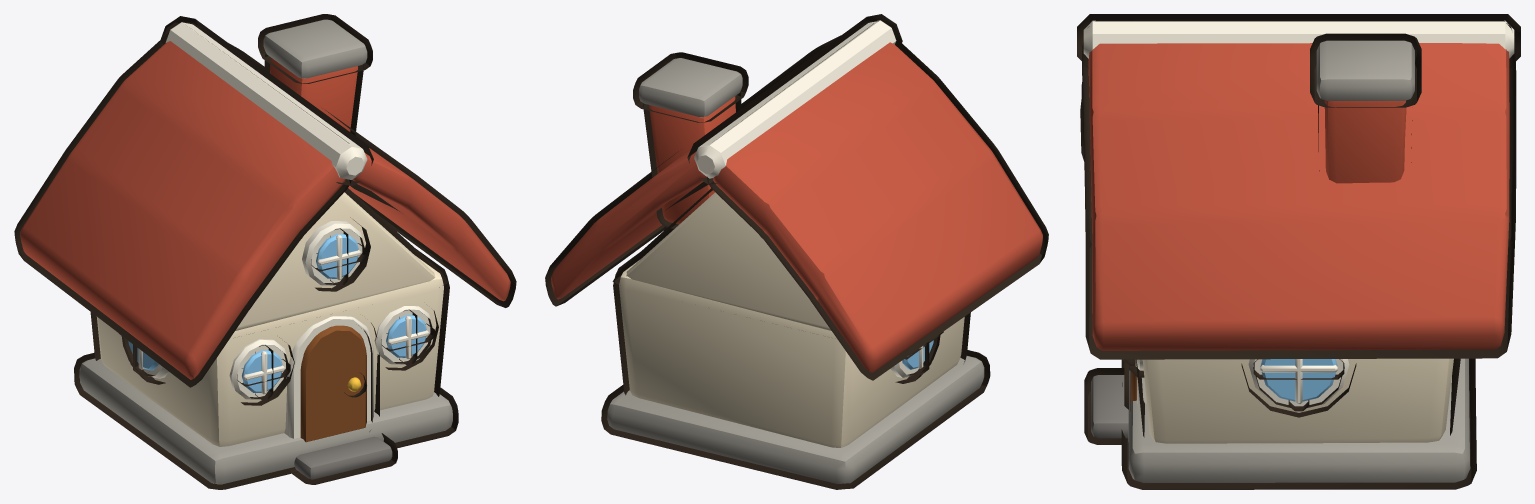
Rendered from house-1.glb.
3 views of the same model, side by side, from view 1: azimuth 30°, elevation 25°; view 2: azimuth 150°, elevation 25°; view 3: azimuth 270°, elevation 25° (orthographic). The views are drawn at different scales.
Parts seen in each view (by area): view 1: house-1; view 2: house-1; view 3: house-1.
Boxes of the visible parts, x1,y1,x2,y2 form: house-1: (14, 14, 516, 489); house-1: (545, 14, 1048, 489); house-1: (1077, 14, 1520, 489).
Bounding box in the file's own units: 3.17 × 3.09 × 2.99.
